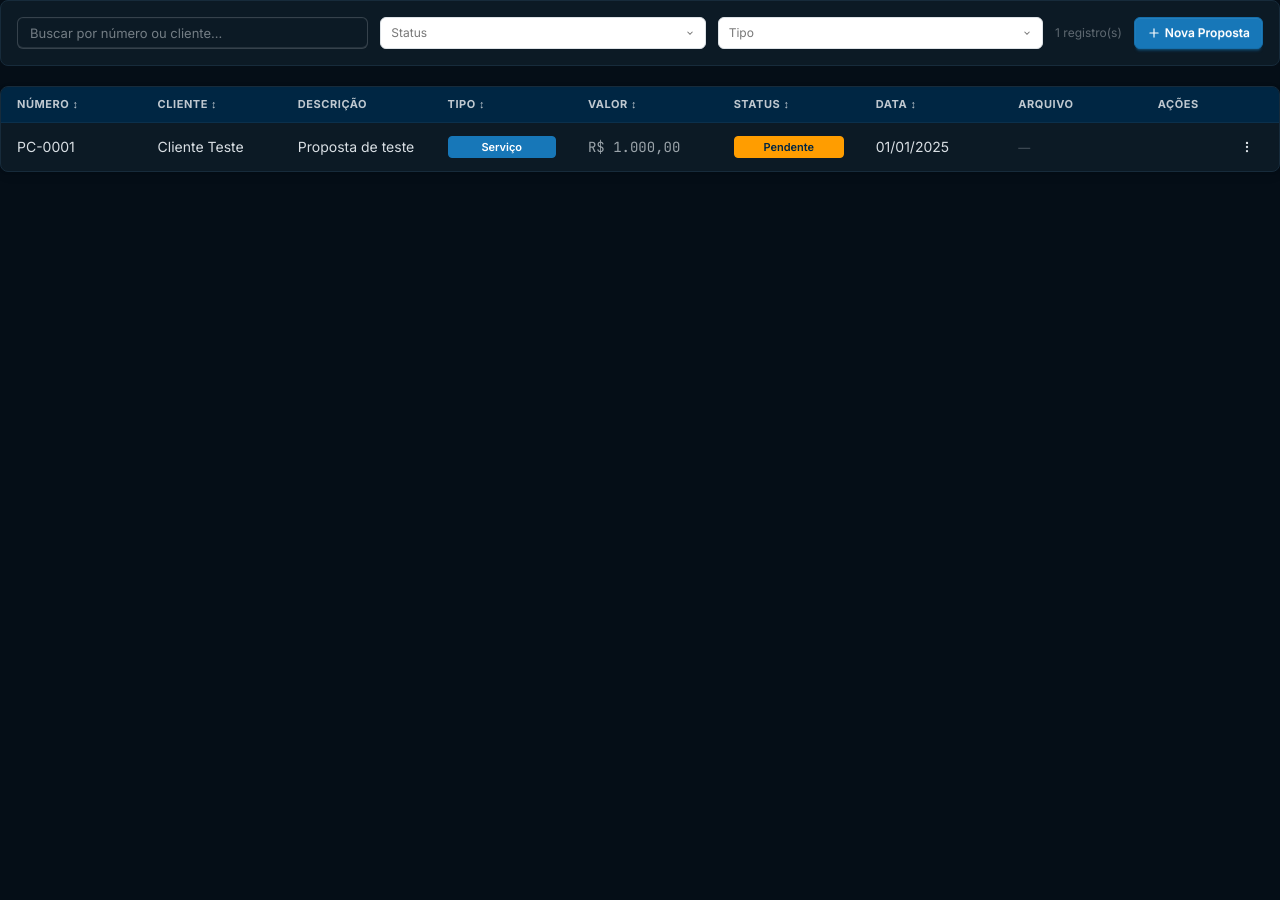
Test: abre o modal de aceitar com os campos opcionais da OS ao clicar em Aceitar
Click the button named "Ações" at x=1247, y=146, box [1231,134,1263,158]
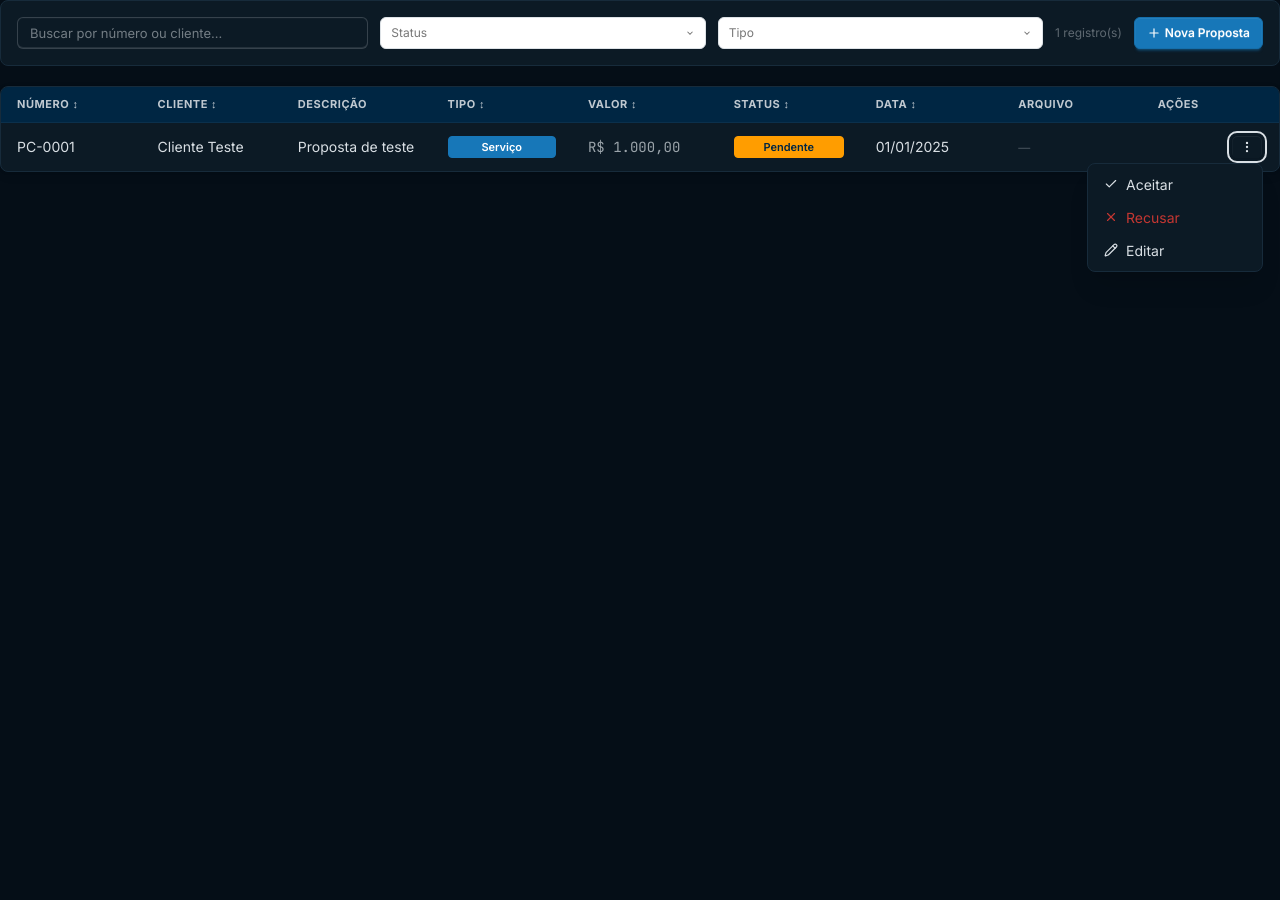
Click the button "Aceitar" at x=1175, y=184, box [1092,168,1258,200]
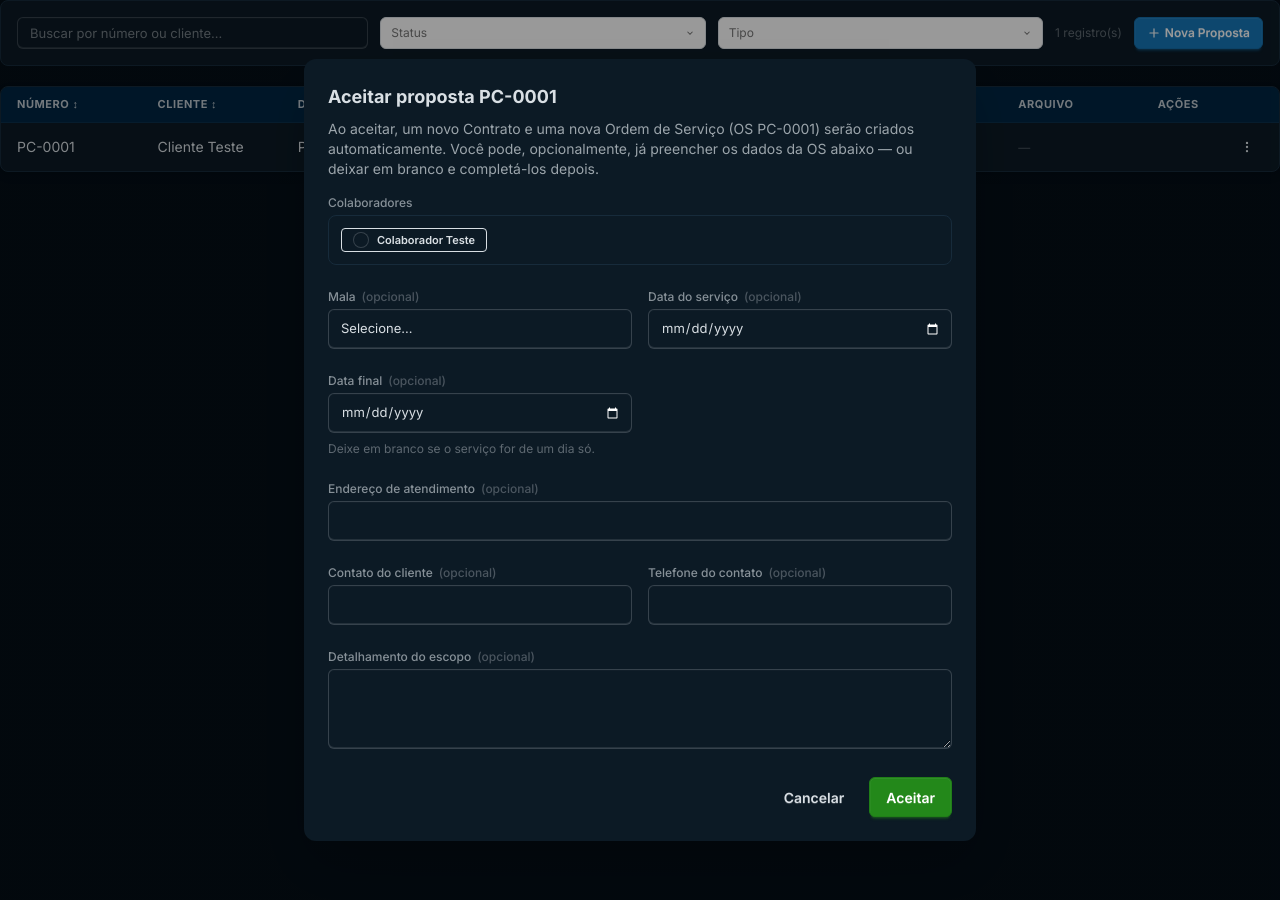
Now the heading "Aceitar proposta PC-0001" is shown, box [328,86,557,107]
Now the text "Colaborador Teste" is shown, box [341,228,487,252]
Now the dropdown labelled "Mala (opcional)" is shown, box [328,309,632,349]
